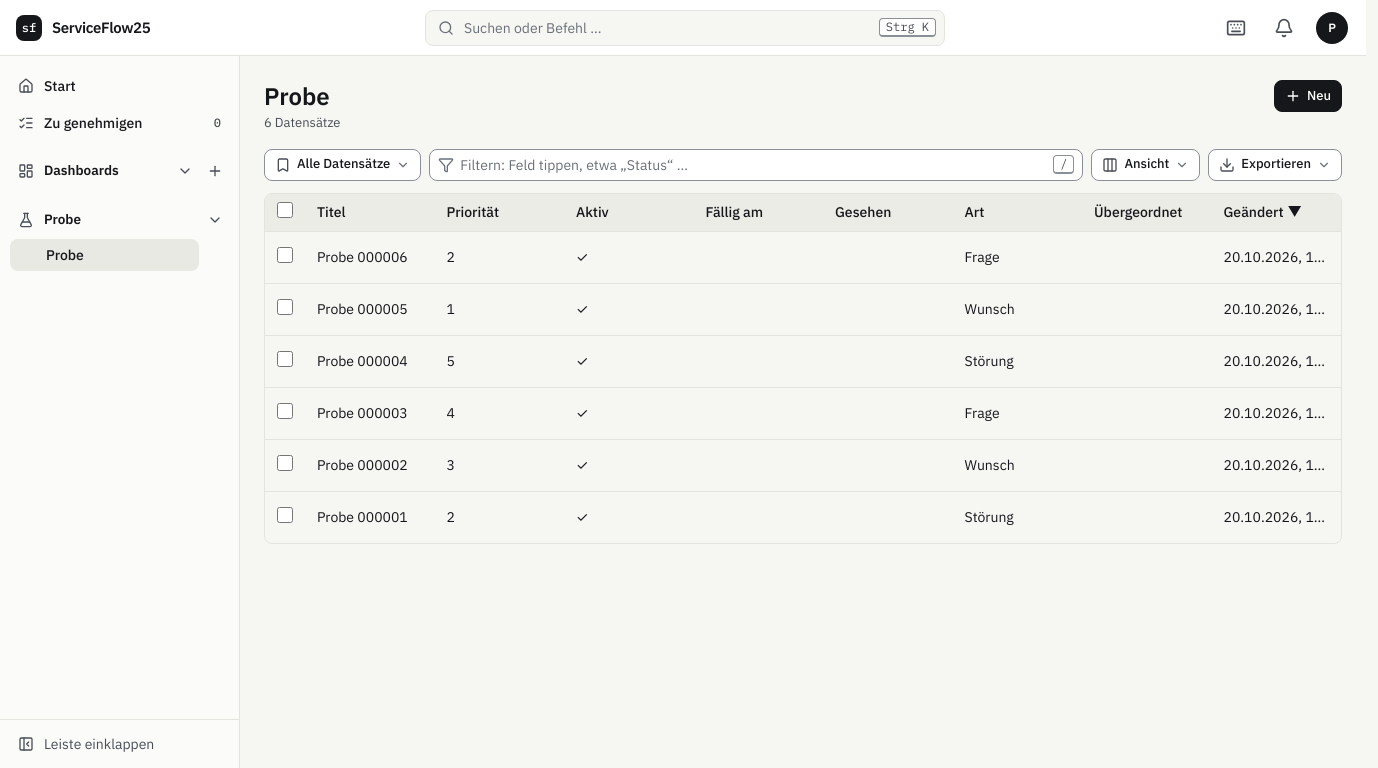
Test case: Export › follows the job of a large export and offers its file
The width and height of the screenshot is (1378, 768).
Expected: the text "6 Datensätze" is shown, [264, 114, 340, 133]
Step 1. Click the button "Exportieren" → coordinates (1275, 165), box [1208, 149, 1342, 181]
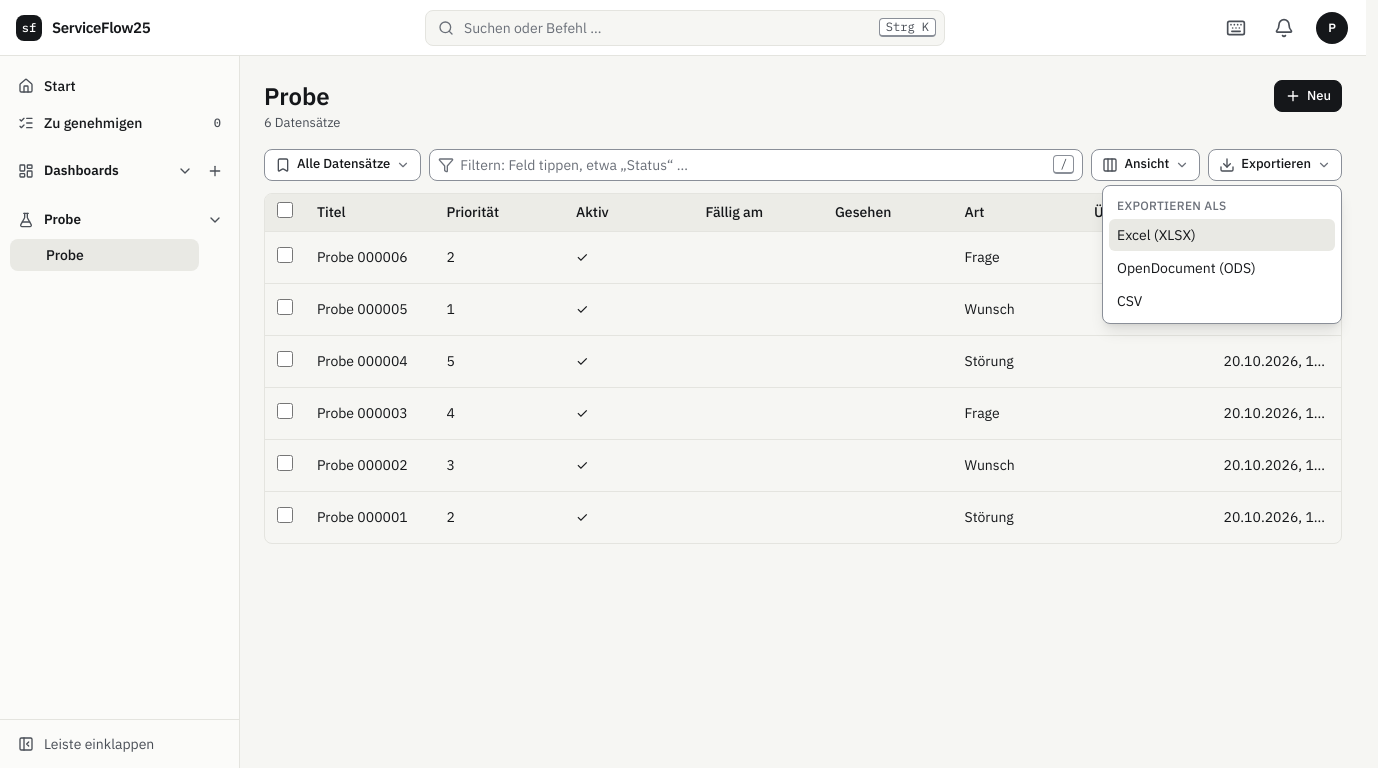
Step 2. Click the menu item "Excel (XLSX)" → coordinates (1222, 235), box [1109, 219, 1335, 251]
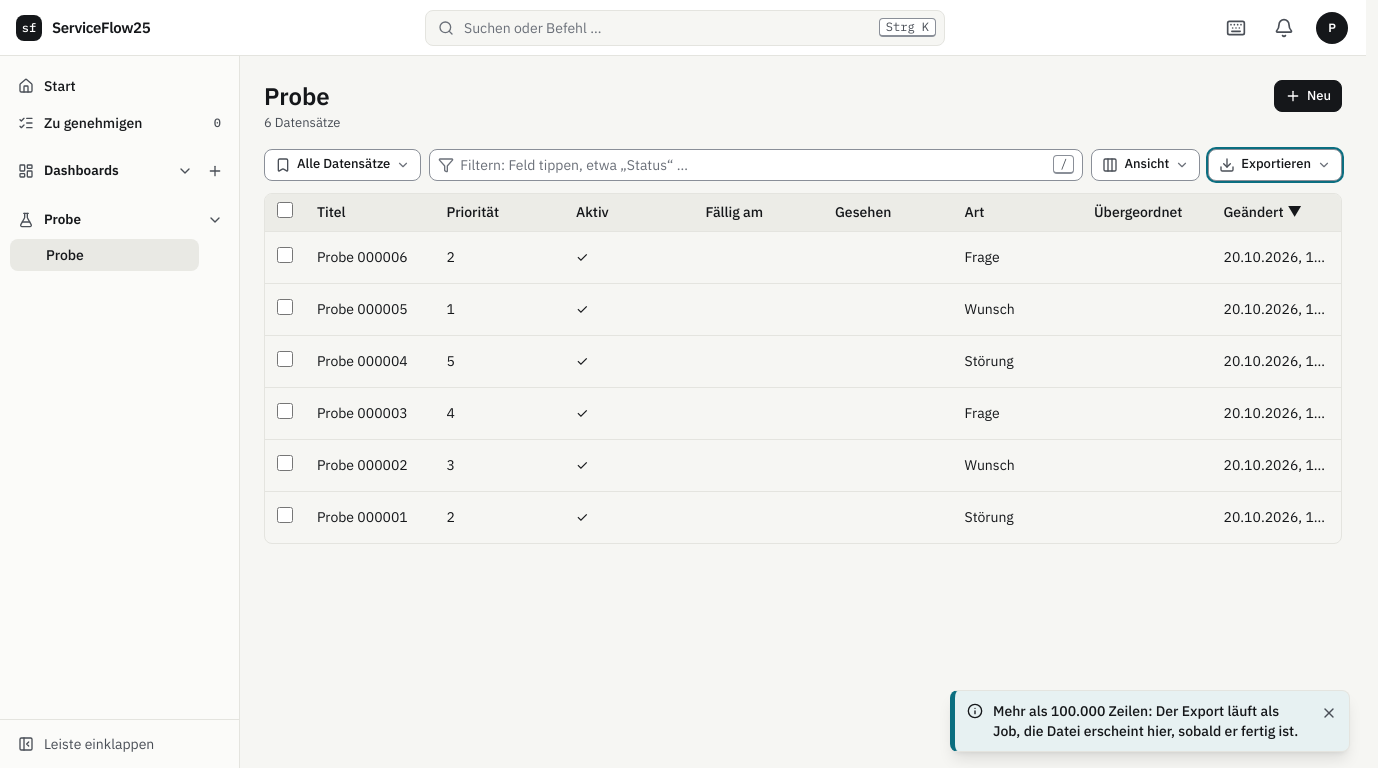
Expected: the text "läuft als Job" is shown, [993, 702, 1298, 740]
// While the job runs, no second export starts.
Step 3. Click the button "Exportieren" → coordinates (1275, 165), box [1208, 149, 1342, 181]
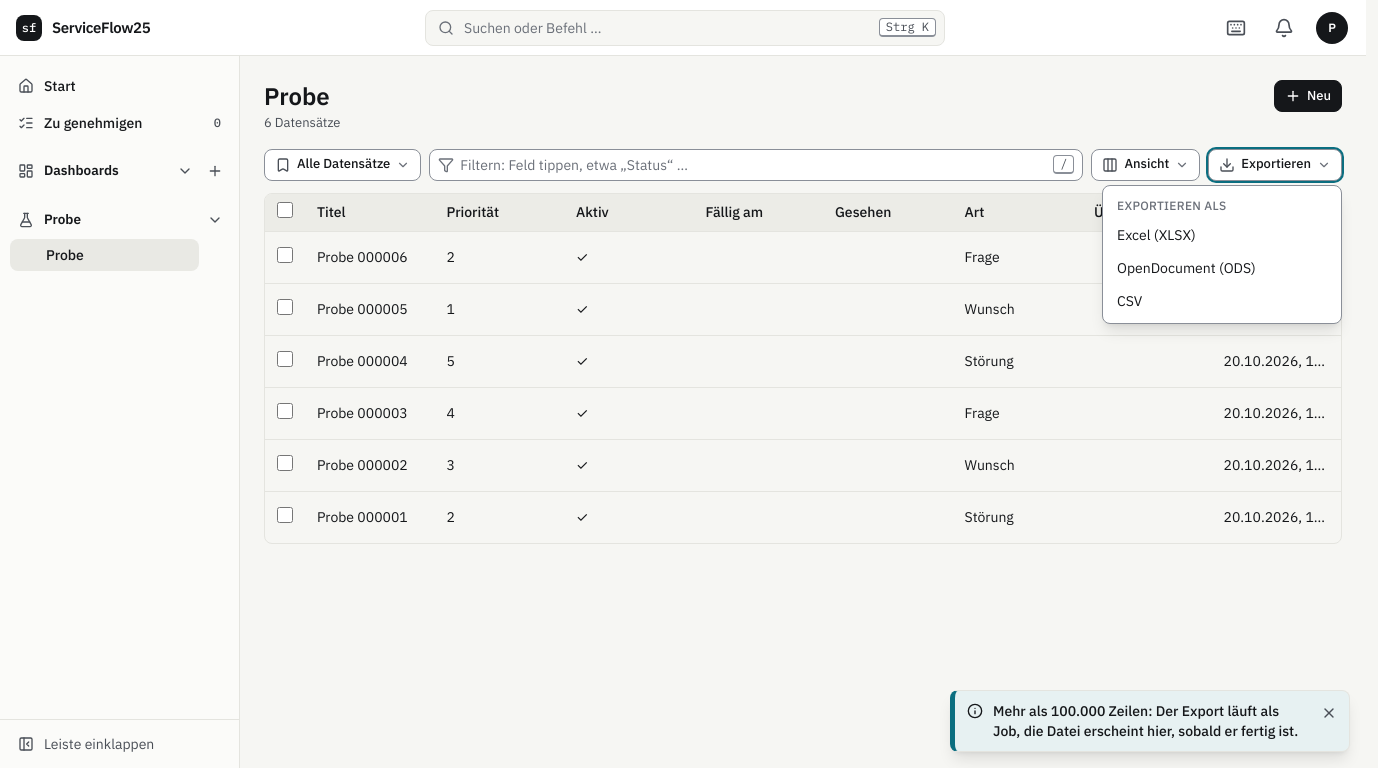
Expected: the menu item "CSV" is disabled, [1109, 285, 1335, 317]
Step 4. Press Escape
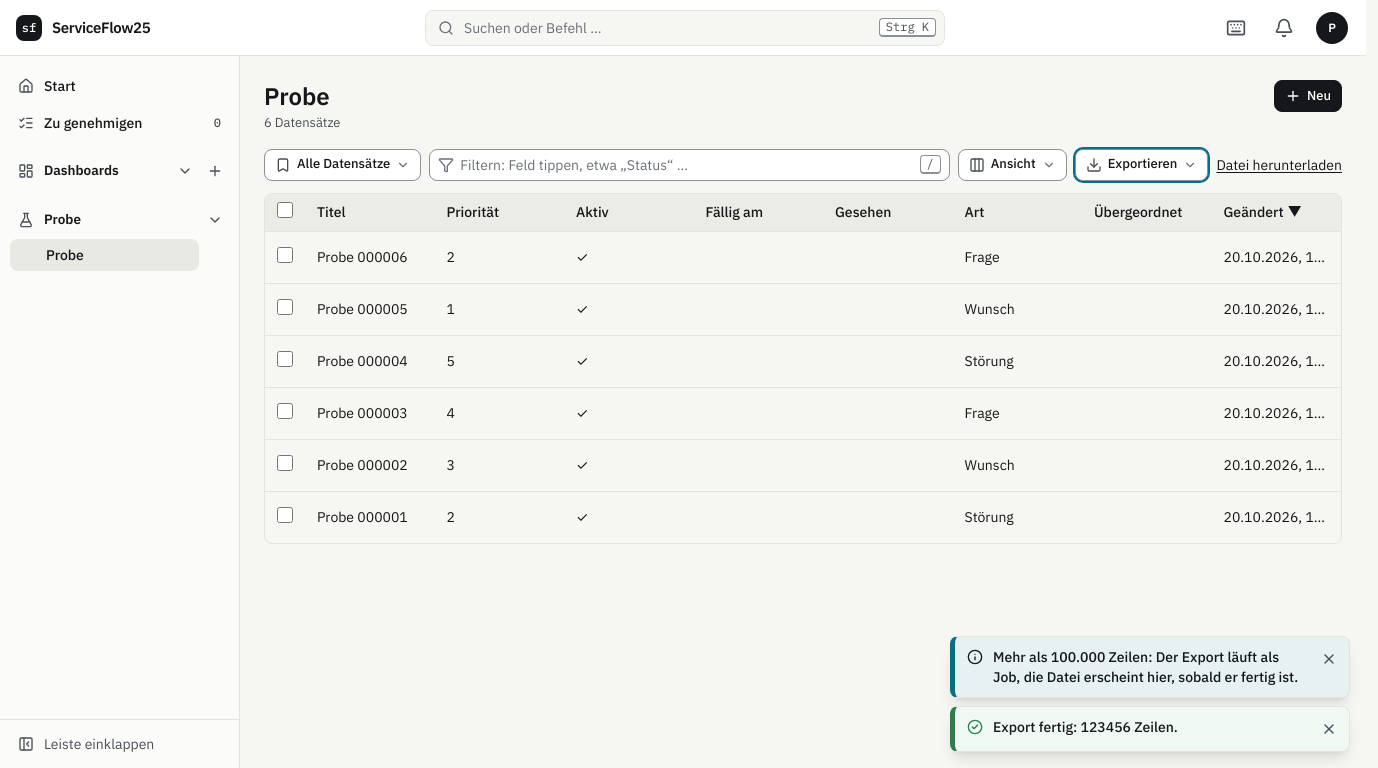
Expected: the text "Export fertig: 123456 Zeilen." is shown, [993, 718, 1178, 736]
